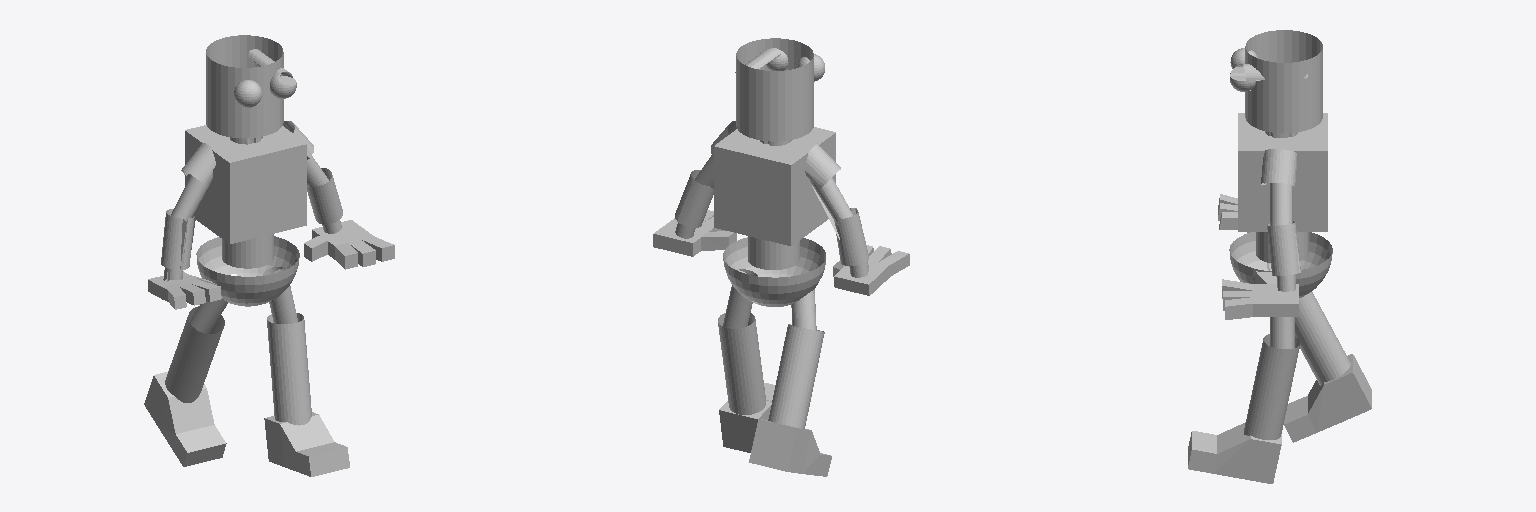
Rendered from mydumbo2.obj.
3 renders of one model, left to right at view 1: azimuth 30°, elevation 25°; view 2: azimuth 150°, elevation 25°; view 3: azimuth 270°, elevation 25°, orthographic.
Visible parts, largest first — view 1: Circle; view 2: Circle; view 3: Circle.
Boxes of the visible parts, box(x1,y1,x2,y2) form: Circle: box(144, 35, 394, 476); Circle: box(653, 38, 909, 476); Circle: box(1188, 30, 1371, 483).
Bounding box in the file's own units: 12.87 × 22.59 × 9.21.